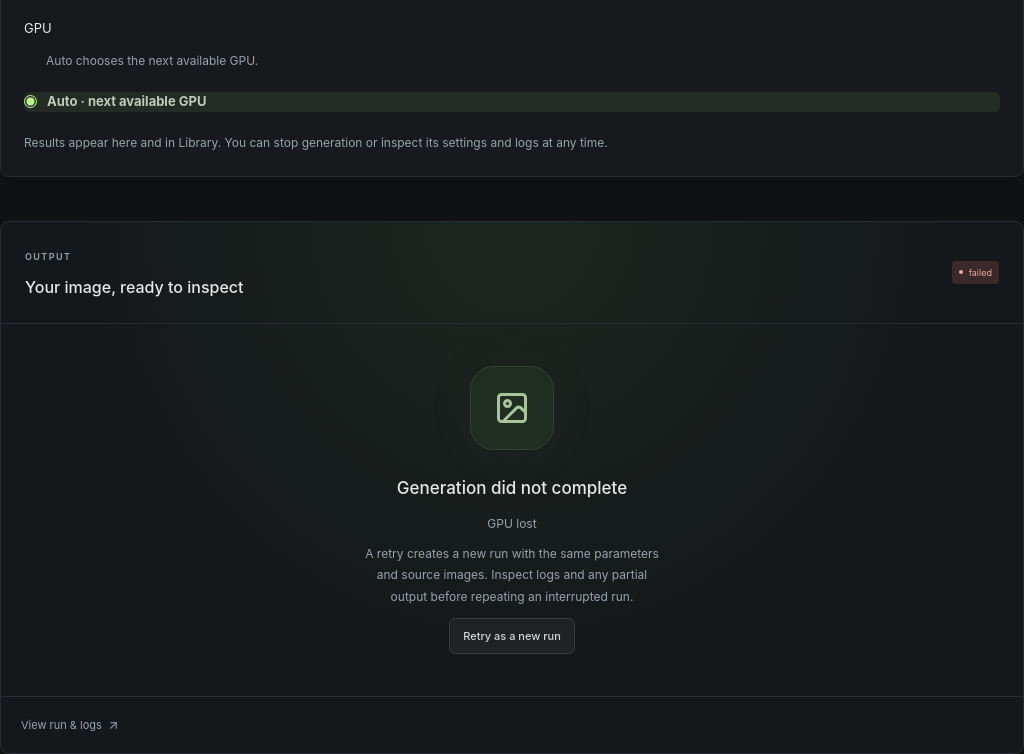
Scenario: retries a failed image run in the workspace without opening the inspector
The image size is (1024, 754).
(page scrolled)
Expected: the heading "Generation did not complete" is shown, [397, 476, 627, 501]
Expected: the text "GPU lost" is shown, [487, 513, 537, 535]
Click the button with aria-label "Retry as a new run failed": (512, 636) [449, 618, 575, 654]
(page scrolled)
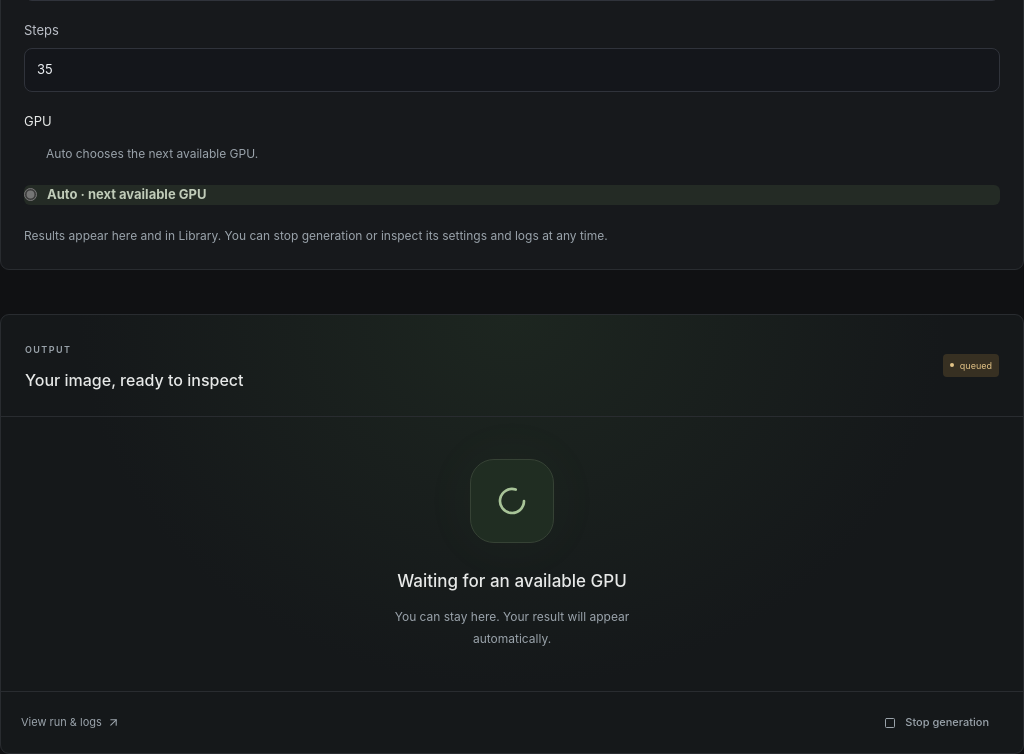
Expected: the heading "Waiting for an available GPU" is shown, [397, 569, 627, 594]
Expected: the button "Stop generation" is shown, [870, 704, 1003, 741]
